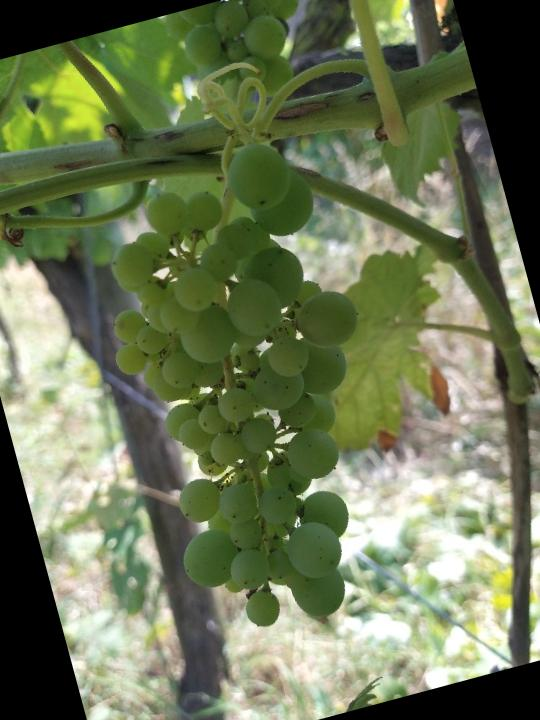grape: (62, 115, 440, 658)
